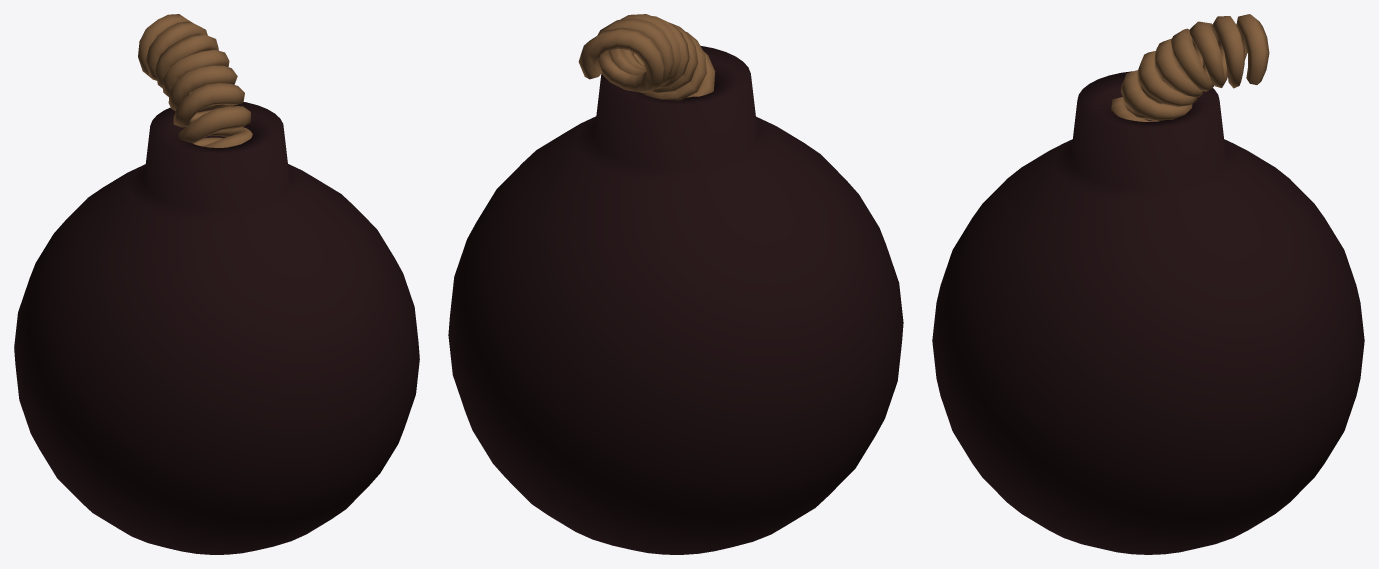
File: bomb.fbx
The picture shows the model from 3 angles, left to right: view 1: azimuth 30°, elevation 25°; view 2: azimuth 150°, elevation 25°; view 3: azimuth 270°, elevation 25°; orthographic projection. The views are drawn at different scales.
Visible parts, largest first — view 1: bomb, fuse; view 2: bomb, fuse; view 3: bomb, fuse.
Part boxes in pixels (bbox=[...]): bomb: bbox=[14, 102, 419, 554]; fuse: bbox=[138, 14, 252, 147]; bomb: bbox=[448, 45, 903, 554]; fuse: bbox=[578, 14, 715, 100]; bomb: bbox=[932, 71, 1364, 554]; fuse: bbox=[1111, 14, 1269, 121].
Bounding box in the file's own units: 35.45 × 46.6 × 35.45.
